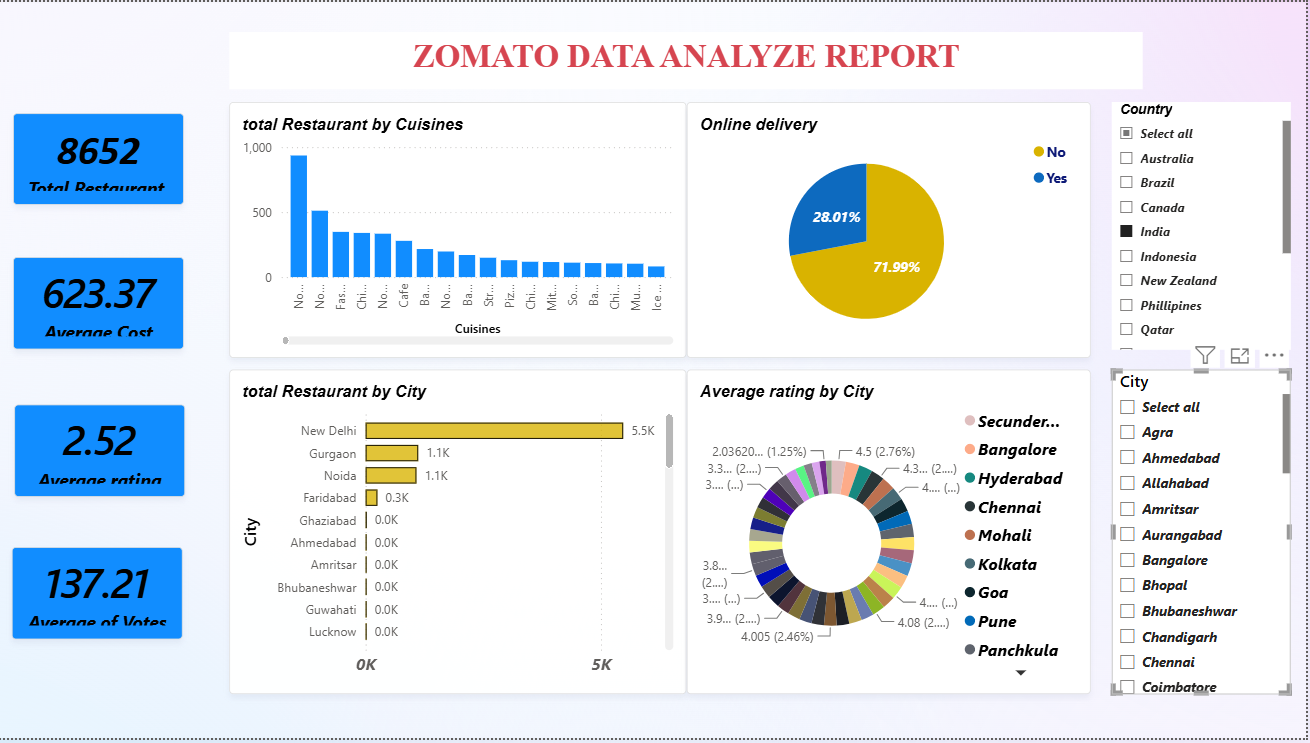

The dashboard page shown, as its layout file describes it:
{"tool":"powerbi","page":{"name":"Page 1","canvas":[1280,720],"ordinal":0},"visuals":[{"type":"textbox","box":[226.2,29.3,893.9,56.3],"z":0},{"type":"card","fields":{"Values":["fACT TABLE.Average Cost"]},"box":[14.7,249.5,167.5,90.5],"z":1000},{"type":"card","fields":{"Values":["CountNonNull(zomato global.total Restaurant ID)"]},"box":[14.7,108.8,167.5,89.3],"z":2000},{"type":"card","fields":{"Values":["fACT TABLE.Average rating"]},"box":[15.9,393.8,167.5,90.5],"z":3000},{"type":"card","fields":{"Values":["Avg(fACT TABLE.Votes)"]},"box":[13.8,533.8,167.5,90],"z":4000},{"type":"columnChart","title":"total Restaurant by Cuisines","fields":{"Category":["cuisines.Cuisines"],"Y":["CountNonNull(zomato global.total Restaurant)"]},"box":[226.2,97.8,447.6,250.7],"z":5000},{"type":"pieChart","title":"Online delivery","fields":{"Category":["fACT TABLE.Has Online delivery"],"Y":["CountNonNull(zomato global.total Restaurant)"]},"box":[673.8,97.8,395,250.7],"z":6000},{"type":"clusteredBarChart","title":"total Restaurant by City","fields":{"Category":["zomato global.City"],"Y":["CountNonNull(zomato global.total Restaurant)"]},"box":[226.2,359.5,447.6,317.9],"z":7000},{"type":"donutChart","fields":{"Category":["zomato global.City"],"Y":["fACT TABLE.Average rating"]},"box":[673.8,359.5,395,317.9],"z":8000},{"type":"slicer","fields":{"Values":["zomato global.City"]},"box":[1089.5,359.5,174.9,317.9],"z":9000},{"type":"slicer","fields":{"Values":["Country code.Country"]},"box":[1089.5,97.8,174.9,242.1],"z":10000}]}

Visuals, with their boxes in screenshot pixels (x1, y1, x2, y2), scaled from the page's 1280x720 canvas onto the 1310x743 screenshot:
textbox: bbox=(232, 30, 1146, 88)
card - fACT TABLE.Average Cost: bbox=(15, 257, 186, 351)
card - CountNonNull(zomato global.total Restaurant ID): bbox=(15, 112, 186, 204)
card - fACT TABLE.Average rating: bbox=(16, 406, 188, 500)
card - Avg(fACT TABLE.Votes): bbox=(14, 551, 186, 644)
"total Restaurant by Cuisines" columnChart: bbox=(232, 101, 690, 360)
"Online delivery" pieChart: bbox=(690, 101, 1094, 360)
"total Restaurant by City" clusteredBarChart: bbox=(232, 371, 690, 699)
donutChart - zomato global.City x fACT TABLE.Average rating: bbox=(690, 371, 1094, 699)
slicer - zomato global.City: bbox=(1115, 371, 1294, 699)
slicer - Country code.Country: bbox=(1115, 101, 1294, 351)
